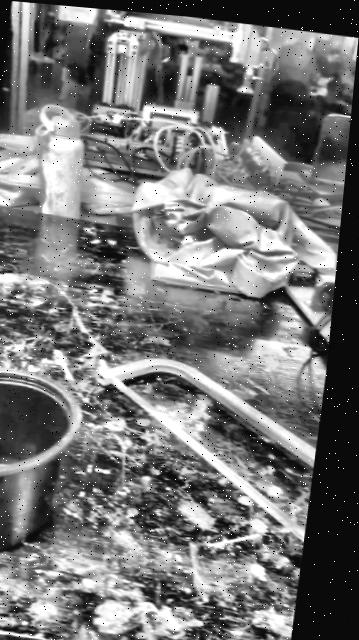pot: (0, 366, 86, 563)
